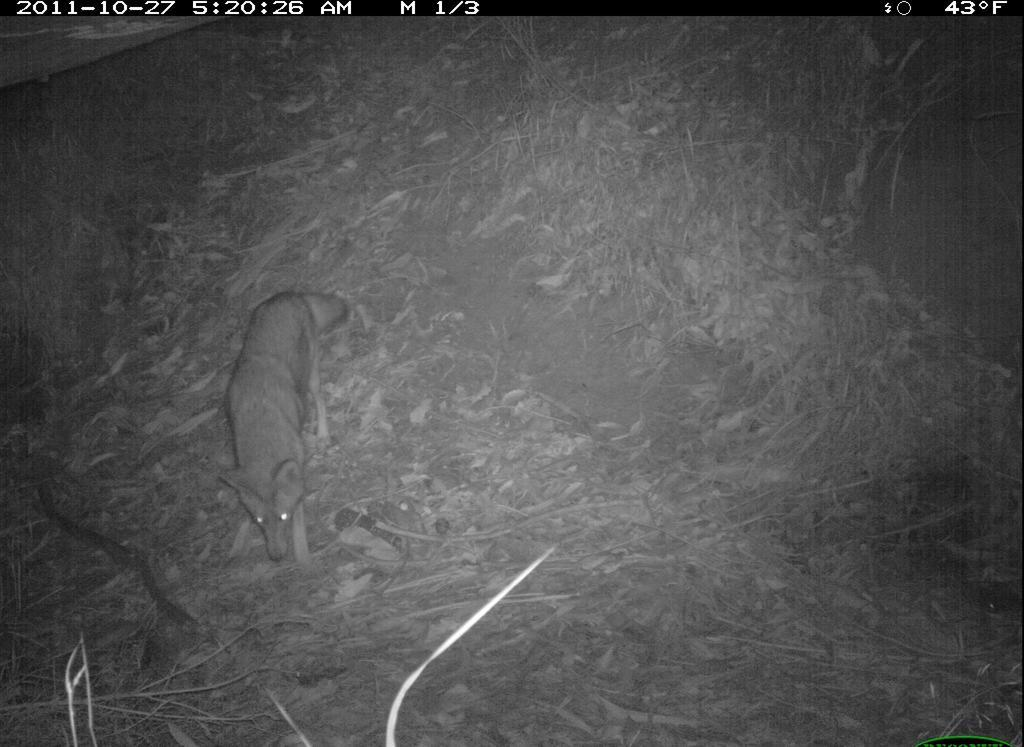coyote: (207, 285, 367, 587)
